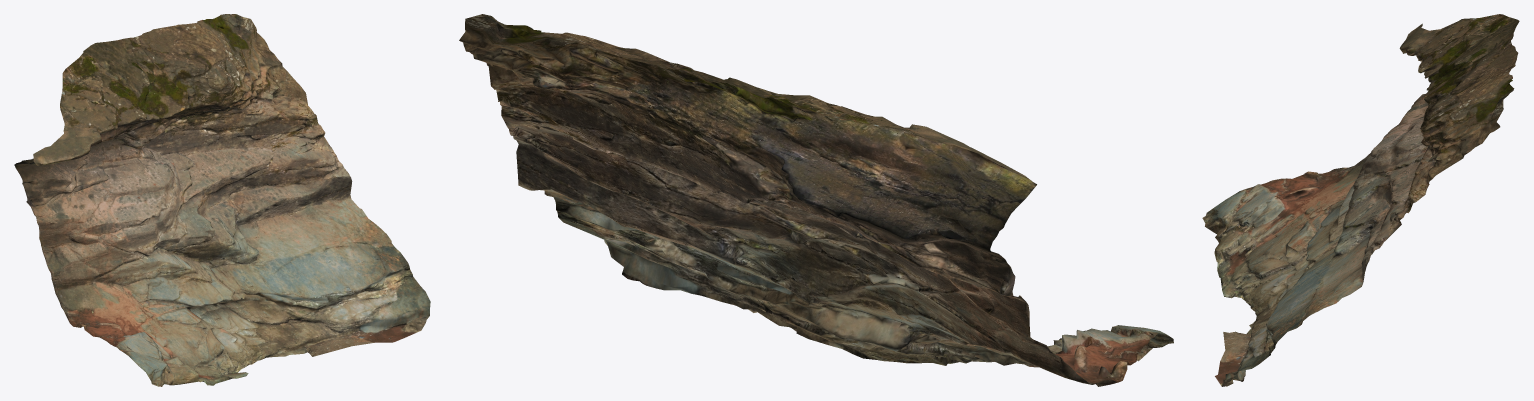
Rendered from rock_face_01.glb.
The picture shows the model from 3 angles, left to right: view 1: azimuth 30°, elevation 25°; view 2: azimuth 150°, elevation 25°; view 3: azimuth 270°, elevation 25°; orthographic projection. The views are drawn at different scales.
Bounding box in the file's own units: 4.95 × 3.56 × 3.83.
1 material, 1 textured.
